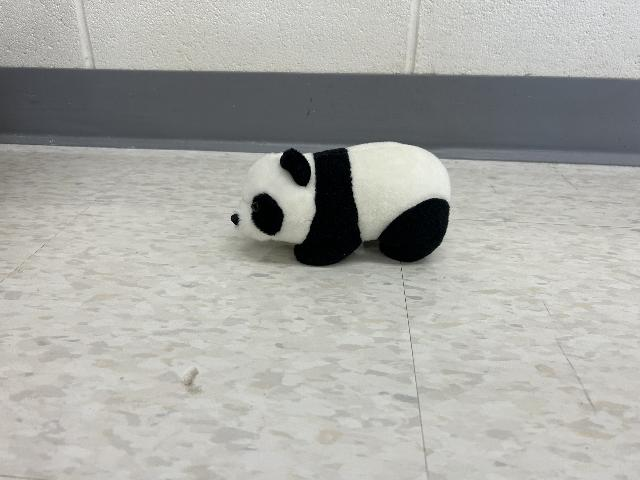panda_plushie: (231, 142, 451, 266)
